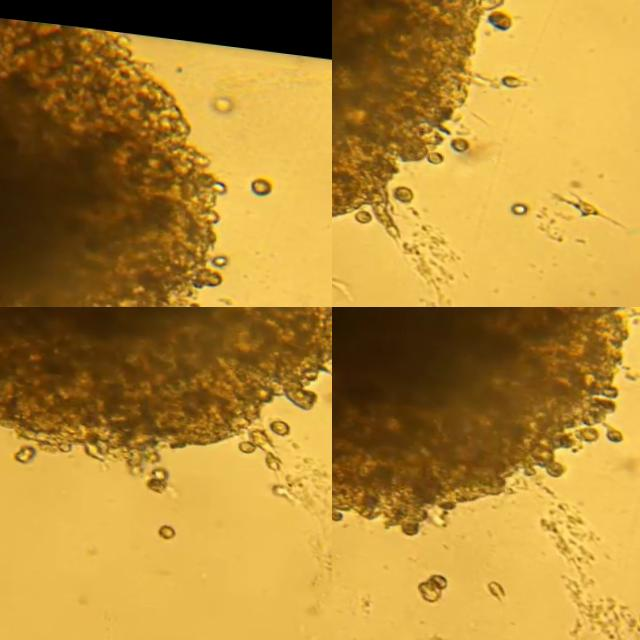cell: (562, 184, 603, 206), (273, 475, 300, 494), (253, 419, 275, 442), (423, 572, 442, 596), (488, 0, 513, 18), (251, 164, 270, 187), (15, 441, 38, 460), (271, 409, 293, 427), (266, 441, 284, 462), (214, 84, 233, 103), (488, 572, 507, 590), (160, 516, 179, 533), (451, 126, 472, 141), (505, 61, 525, 76), (149, 471, 169, 486), (397, 178, 414, 194), (154, 459, 172, 473), (357, 201, 373, 216), (430, 142, 447, 155), (514, 192, 531, 204), (240, 432, 255, 445), (434, 567, 449, 578)
tumor_mass: (0, 13, 230, 307), (332, 307, 634, 530), (332, 0, 492, 228)
